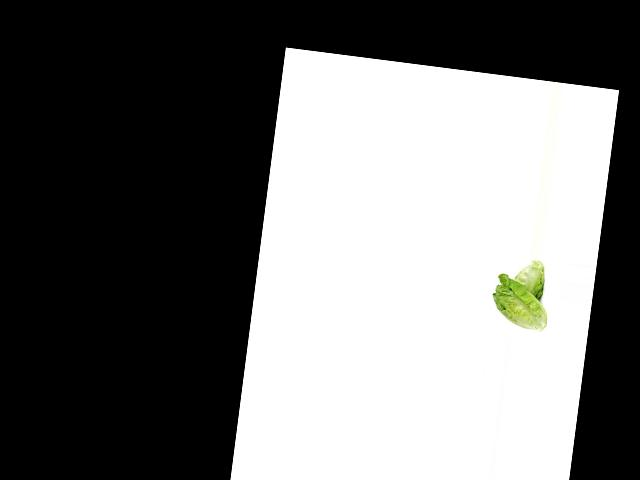lettuce: (510, 256, 550, 301)
